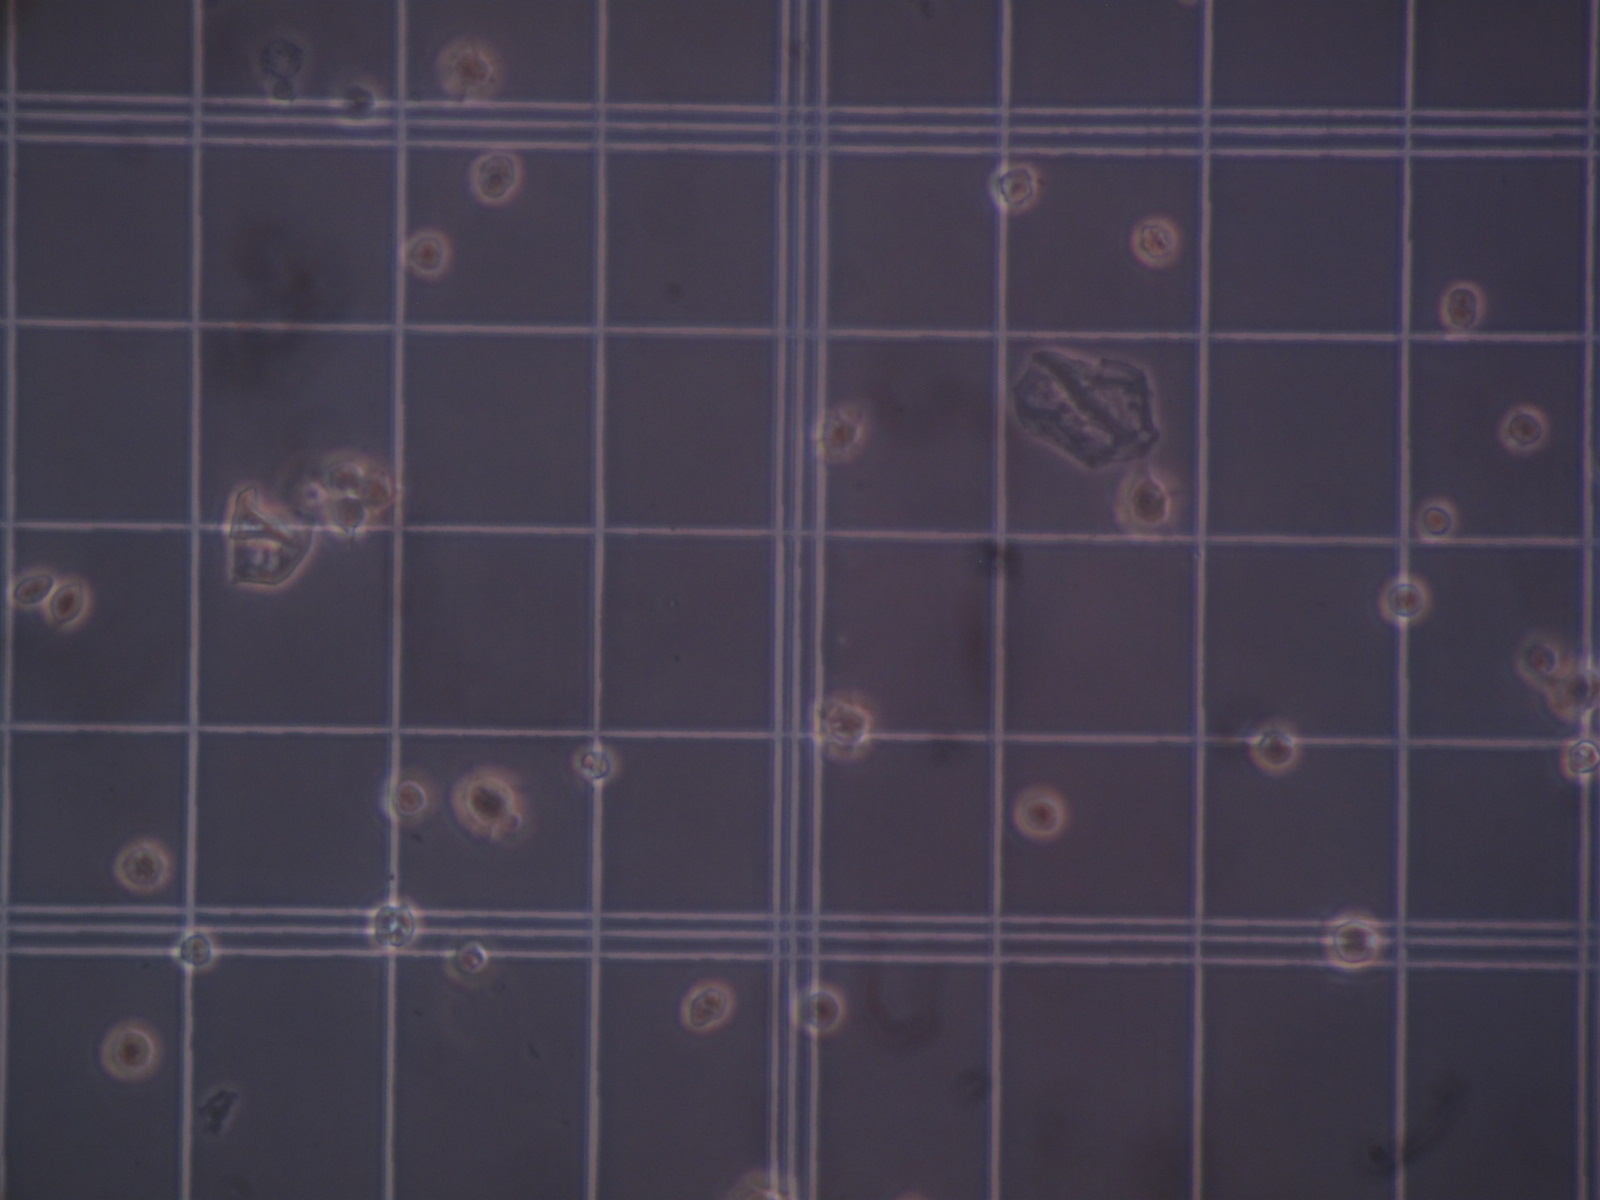hemo: (270, 455, 335, 534), (452, 766, 524, 838), (1114, 465, 1180, 542), (813, 689, 877, 761), (435, 39, 503, 102), (249, 28, 312, 89), (100, 1018, 161, 1082), (1322, 913, 1382, 971), (380, 766, 438, 826), (113, 838, 171, 892), (1547, 662, 1600, 721), (442, 932, 496, 988), (367, 897, 421, 954), (469, 150, 523, 205), (328, 76, 384, 129), (813, 407, 866, 464), (1514, 632, 1565, 689), (794, 982, 845, 1037), (1013, 787, 1066, 839), (680, 981, 734, 1032), (43, 575, 92, 632), (988, 163, 1039, 213), (1249, 720, 1298, 773), (1380, 575, 1430, 625), (1498, 405, 1548, 455), (1131, 216, 1179, 268), (403, 228, 452, 279), (1439, 280, 1485, 332), (320, 449, 367, 499), (357, 460, 398, 514), (6, 567, 58, 610), (170, 926, 218, 972), (1415, 497, 1458, 545), (325, 495, 370, 539), (572, 744, 619, 785), (1561, 736, 1600, 780), (265, 76, 304, 108), (1582, 696, 1600, 745)
